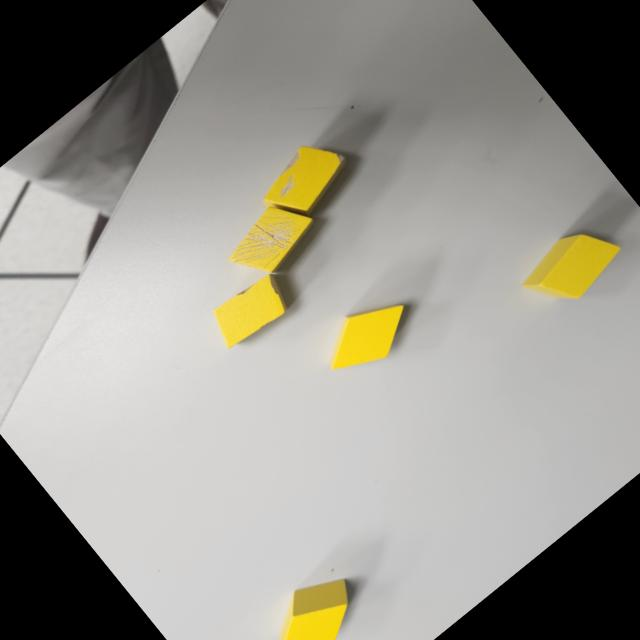broken: (218, 192, 324, 292), (250, 132, 355, 231), (204, 268, 296, 355)
yellow: (511, 210, 632, 324), (310, 282, 423, 389), (244, 559, 377, 640)
